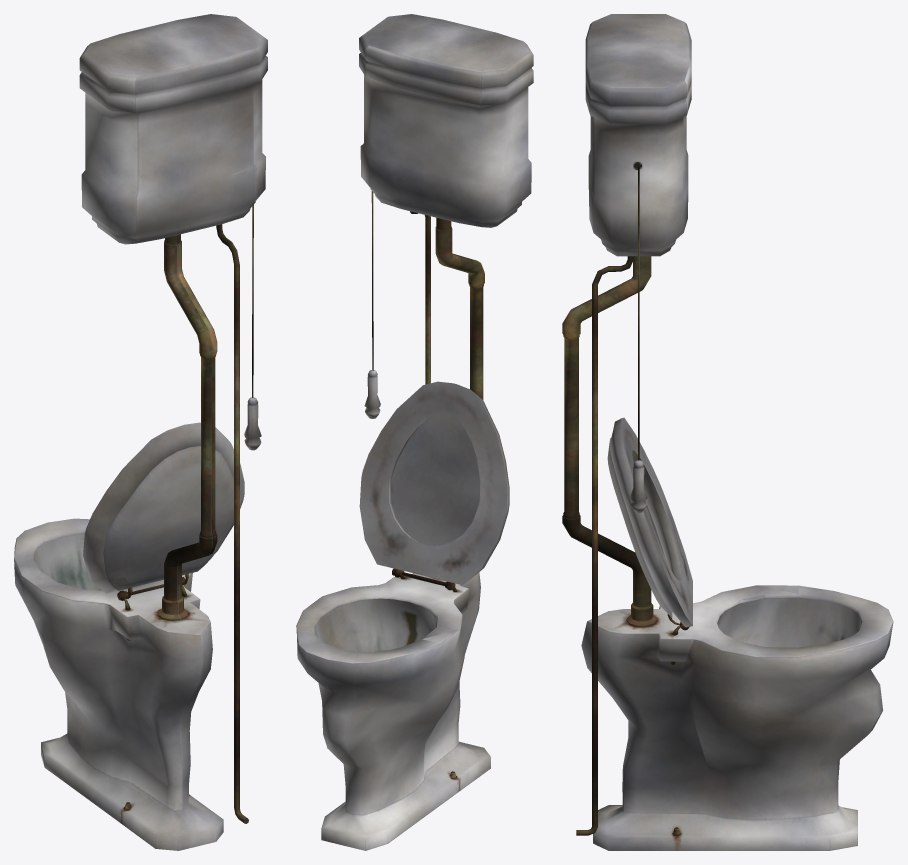
The model's file is toilet.obj.
3 renders of one model, left to right at view 1: azimuth 30°, elevation 25°; view 2: azimuth 150°, elevation 25°; view 3: azimuth 270°, elevation 25°, orthographic. The views are drawn at different scales.
Visible parts, largest first — view 1: toilet; view 2: toilet; view 3: toilet.
Part boxes in pixels (x1,y1,x2,y2): toilet: [14, 14, 267, 850]; toilet: [296, 14, 533, 850]; toilet: [562, 14, 893, 850].
Bounding box in the file's own units: 54.47 × 246 × 93.79.
1 material, 1 textured.
